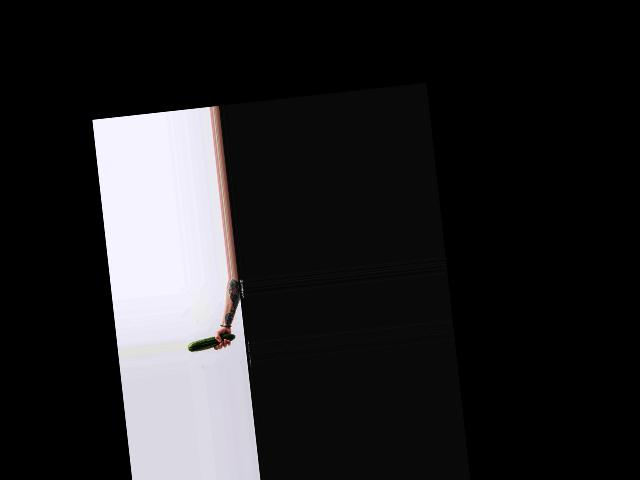cucumber: (186, 333, 236, 352)
